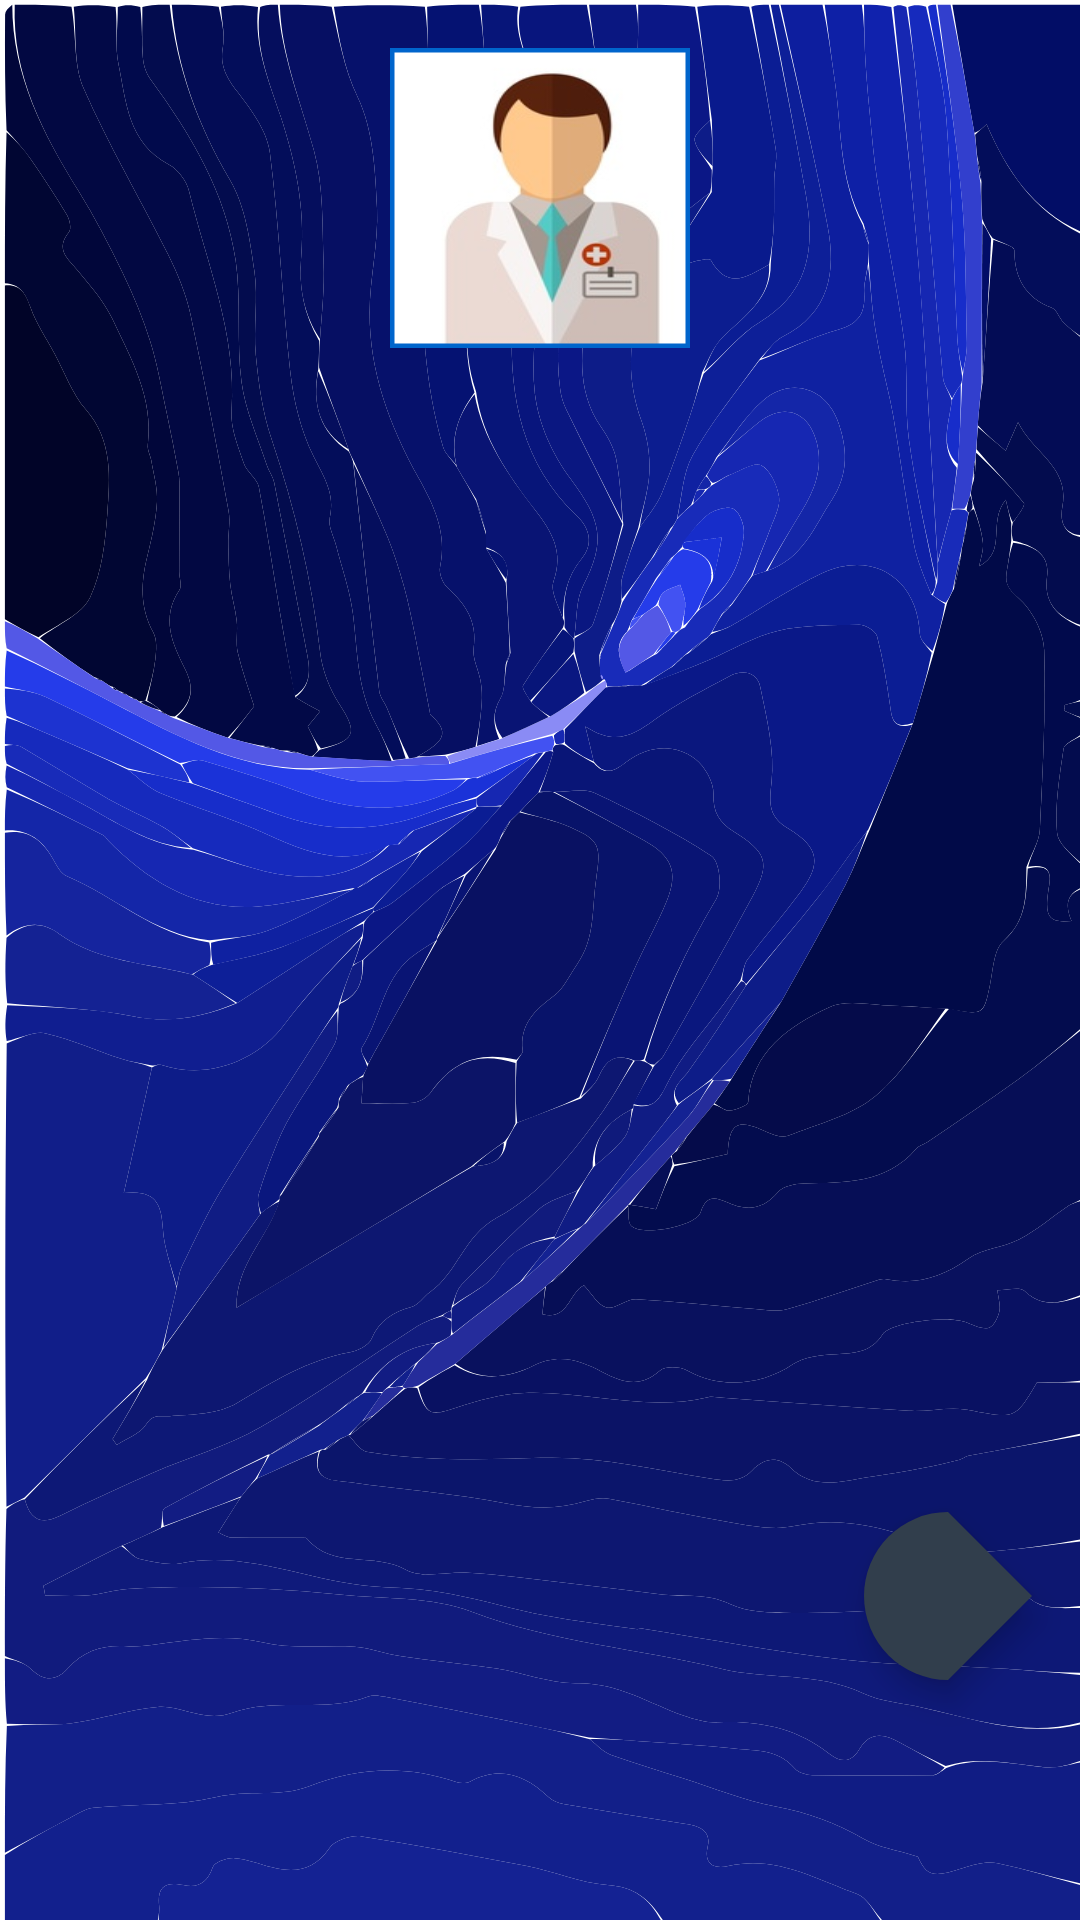

Screen size 1080px×1920px. Icon name, then its center in pixels as point (x, y):
doc: point (540, 198)
